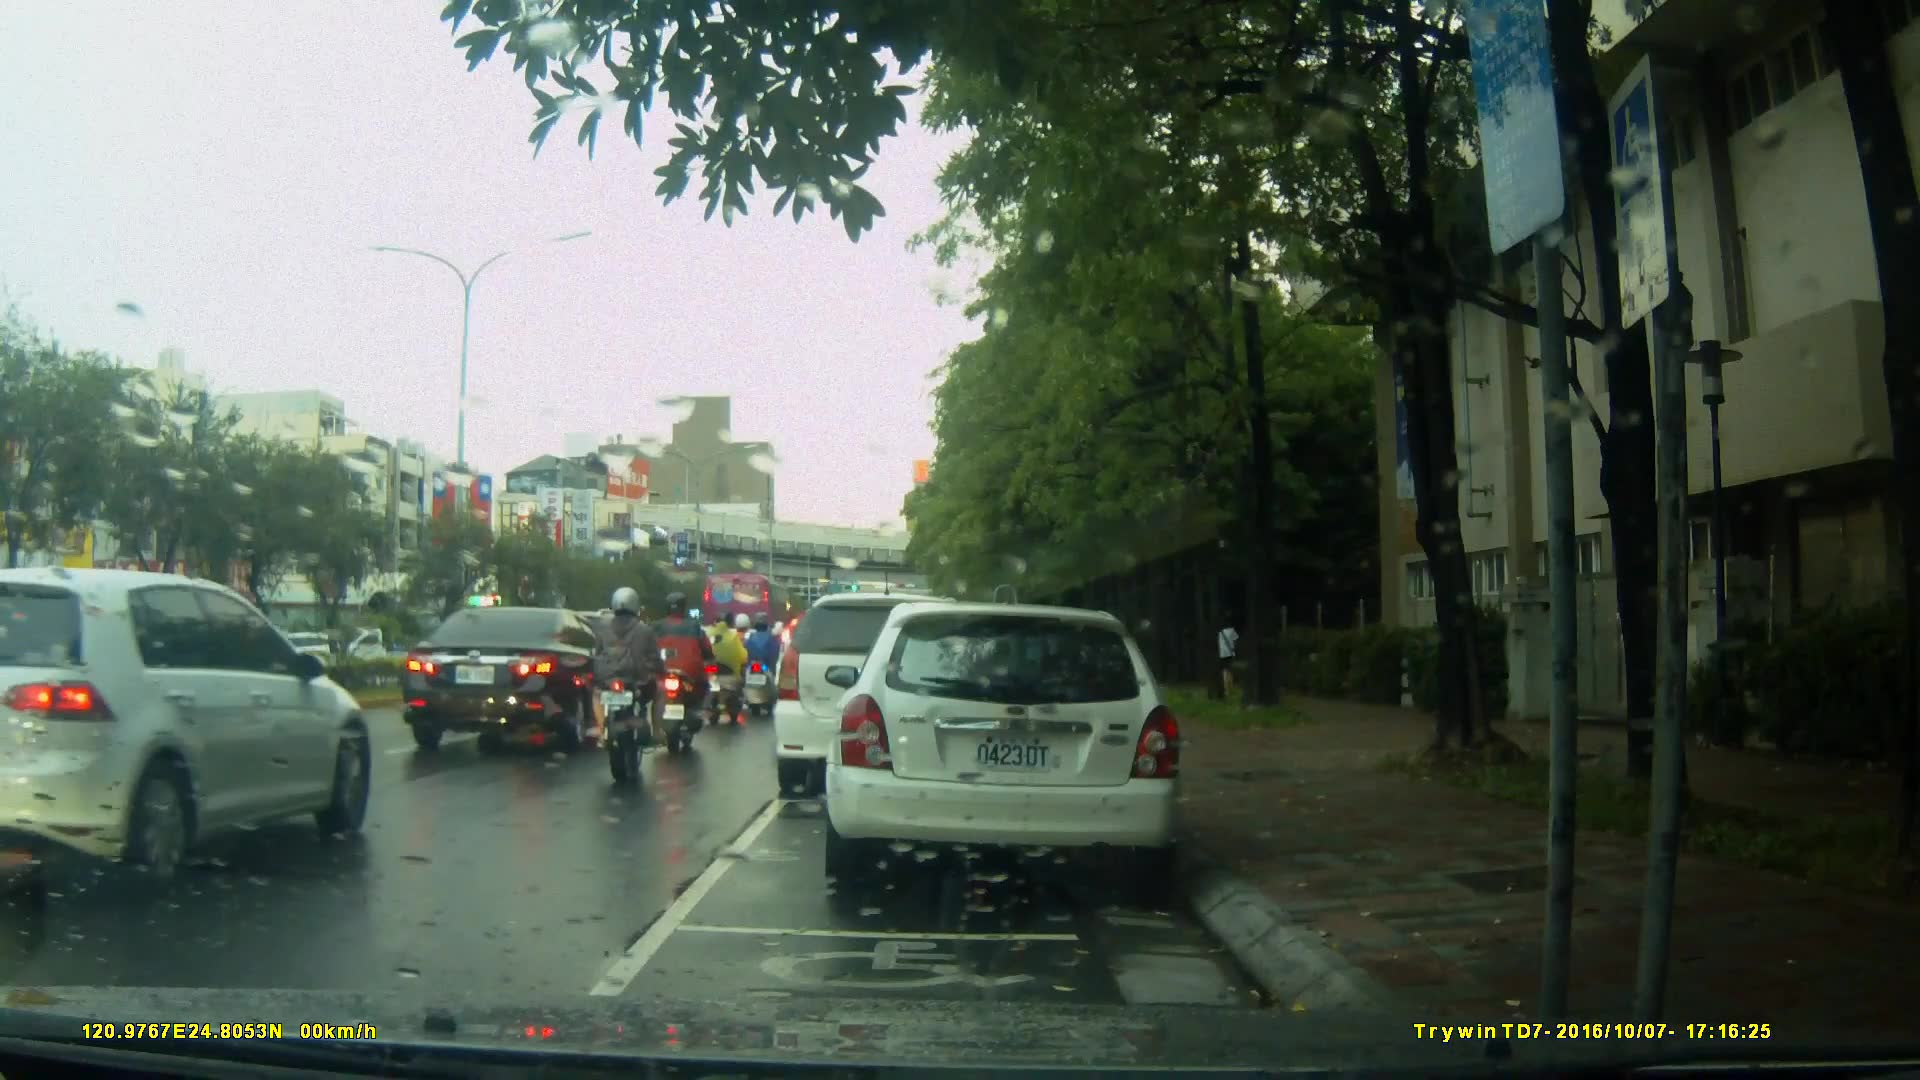pedestrian: (1213, 615, 1245, 699)
rider: (584, 586, 663, 805), (655, 590, 715, 756), (700, 608, 751, 732), (743, 610, 788, 718)
vehicle: (2, 563, 378, 890), (835, 594, 1194, 898), (776, 590, 1026, 784), (402, 604, 650, 760), (700, 572, 792, 648)
